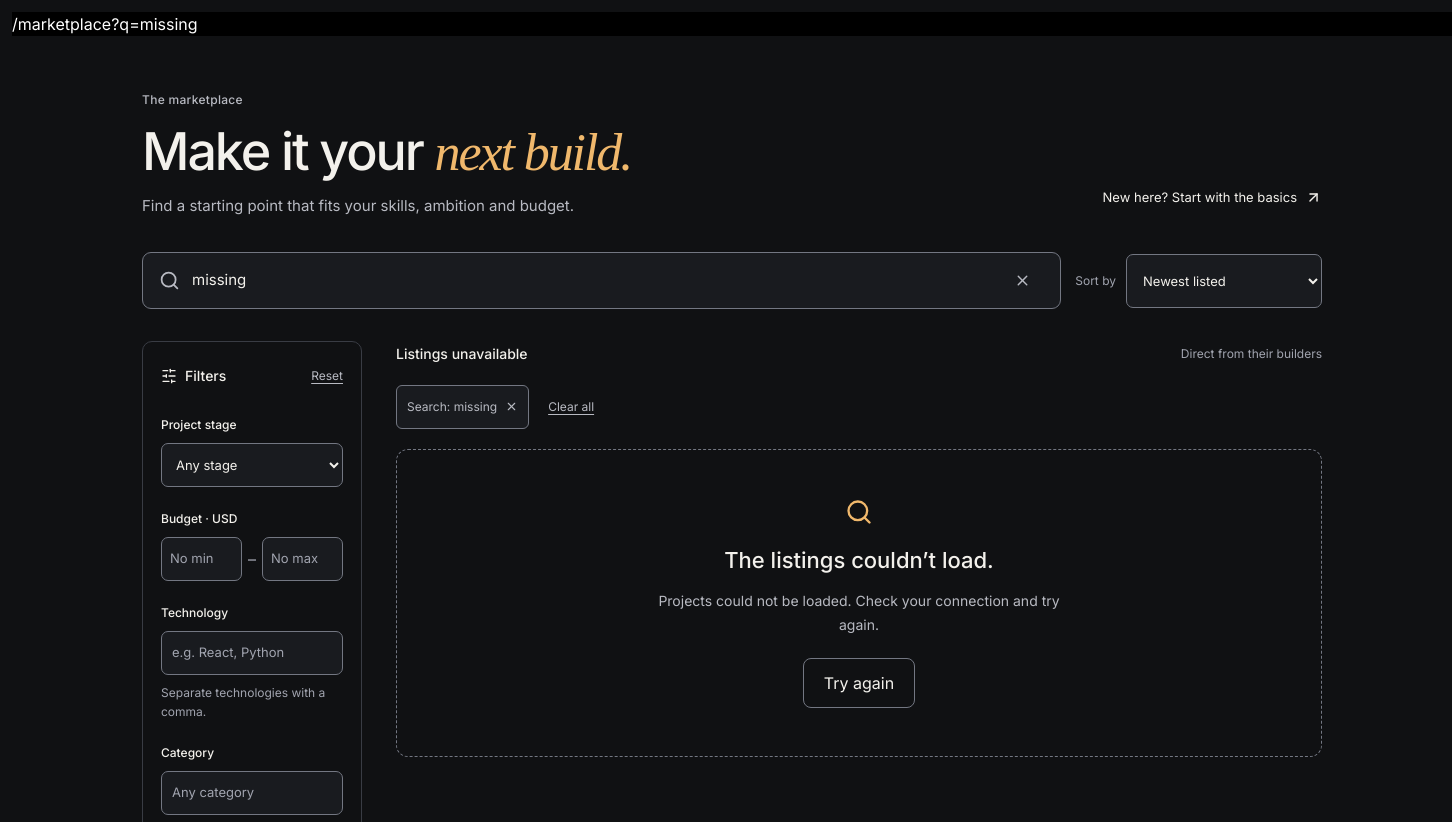
Test: failed listings have Retry; a genuinely empty filtered response has Clear filters
The image size is (1452, 822).
Expected: the message that starts with "The listings couldn’t load." shows "Check your connection", left=658, top=592, right=1060, bottom=633
Click the button "Try again" at (859, 683), box left=803, top=658, right=915, bottom=708
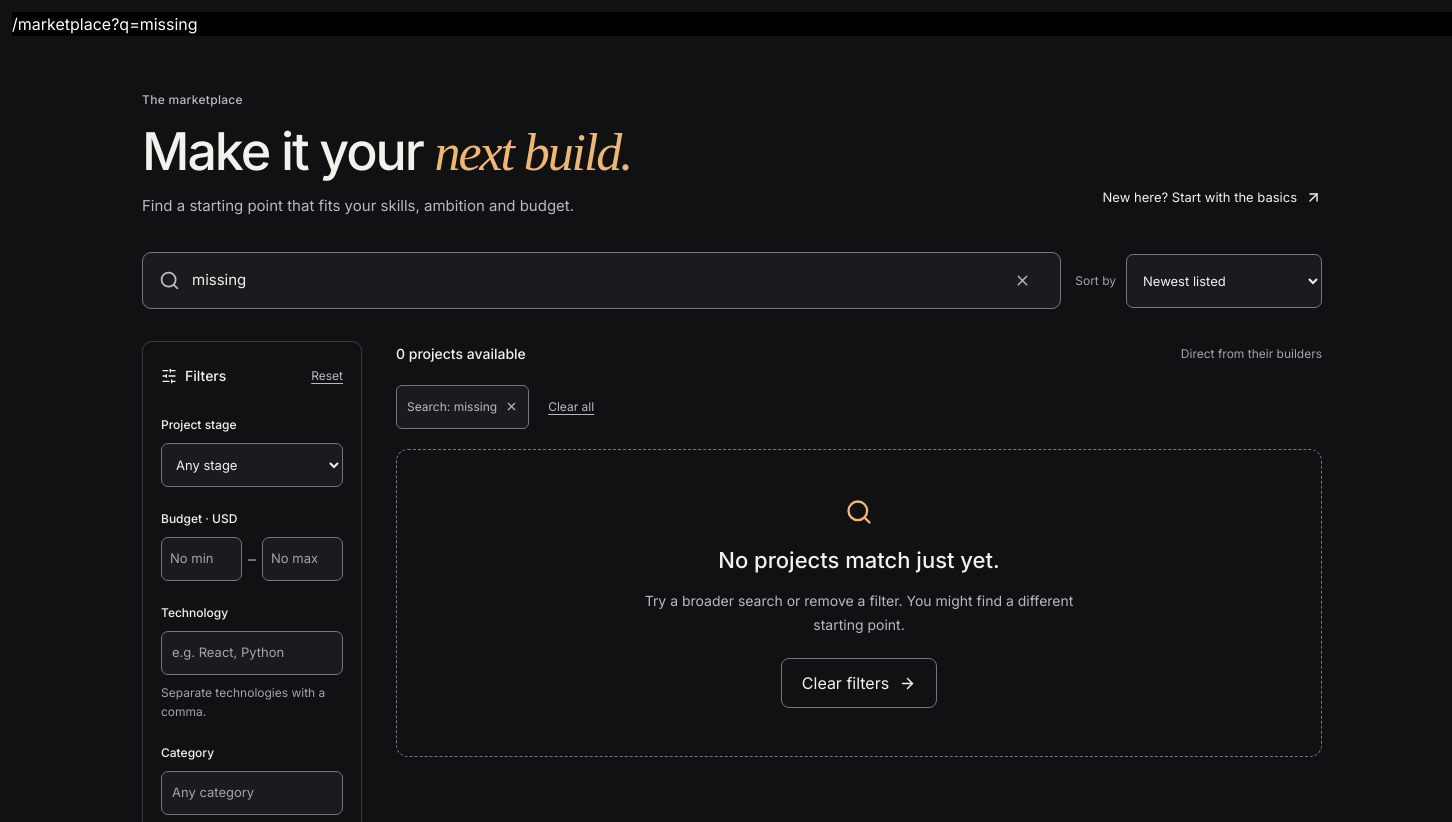
Expected: the heading "No projects match just yet." is shown, left=718, top=547, right=1000, bottom=573
Expected: the button "Clear filters" is shown, left=781, top=658, right=937, bottom=708
